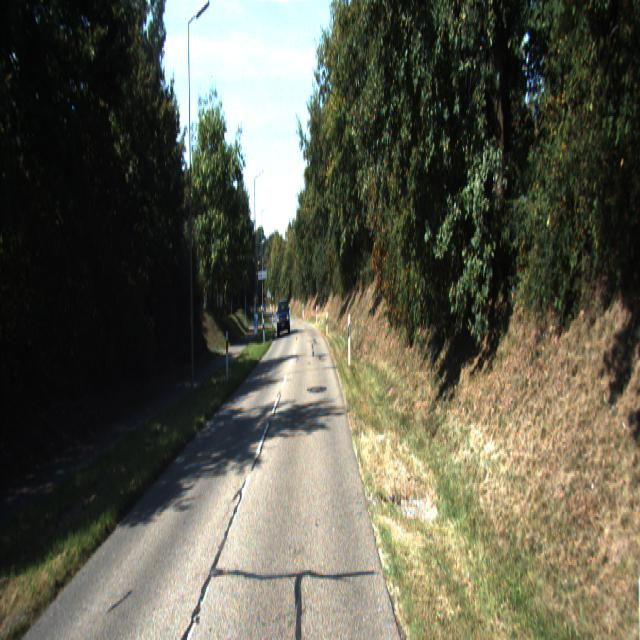Car: (276, 297, 291, 341)
